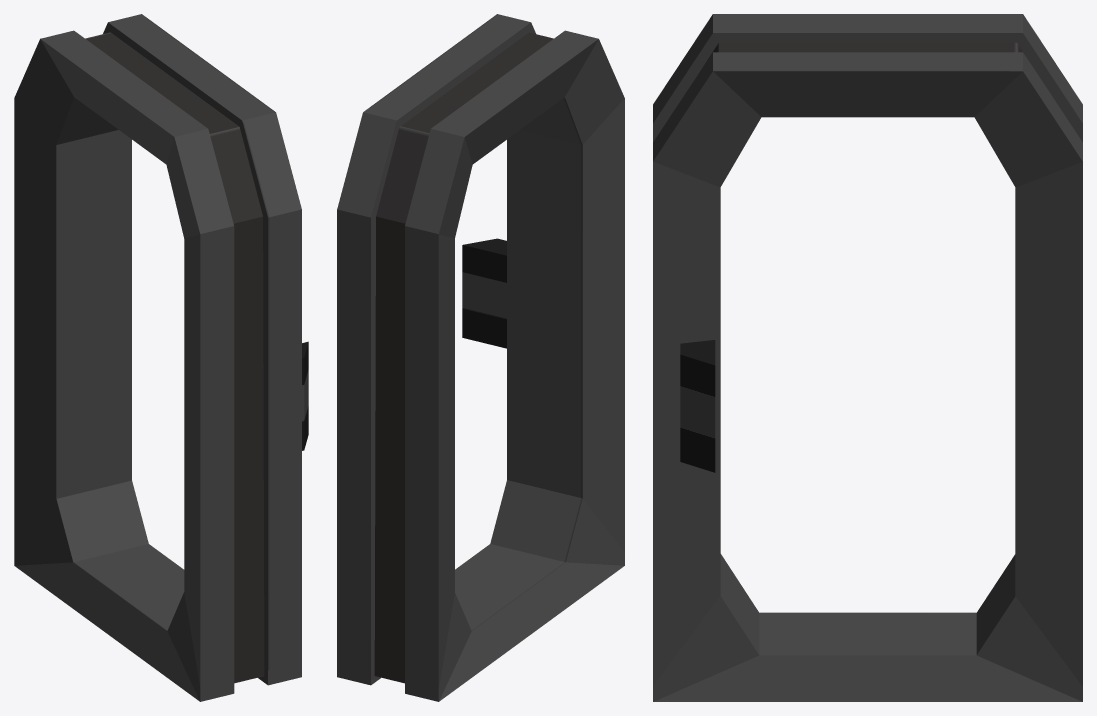
File: metalDoorFrame.obj
3 renders of one model, left to right at view 1: azimuth 30°, elevation 25°; view 2: azimuth 150°, elevation 25°; view 3: azimuth 270°, elevation 25°, orthographic. The views are drawn at different scales.
Visible parts, largest first — view 1: Cube.005, Cube.004; view 2: Cube.005, Cube.004; view 3: Cube.005, Cube.004.
Boxes of the visible parts, x1,y1,x2,y2 form: Cube.005: [14, 14, 301, 701]; Cube.004: [302, 341, 308, 450]; Cube.005: [337, 14, 624, 701]; Cube.004: [462, 238, 506, 348]; Cube.005: [653, 14, 1082, 701]; Cube.004: [680, 340, 715, 472].
Bounding box in the file's own units: 1.44 × 5.53 × 3.42.
Materials: 2 (2 with a texture image).
